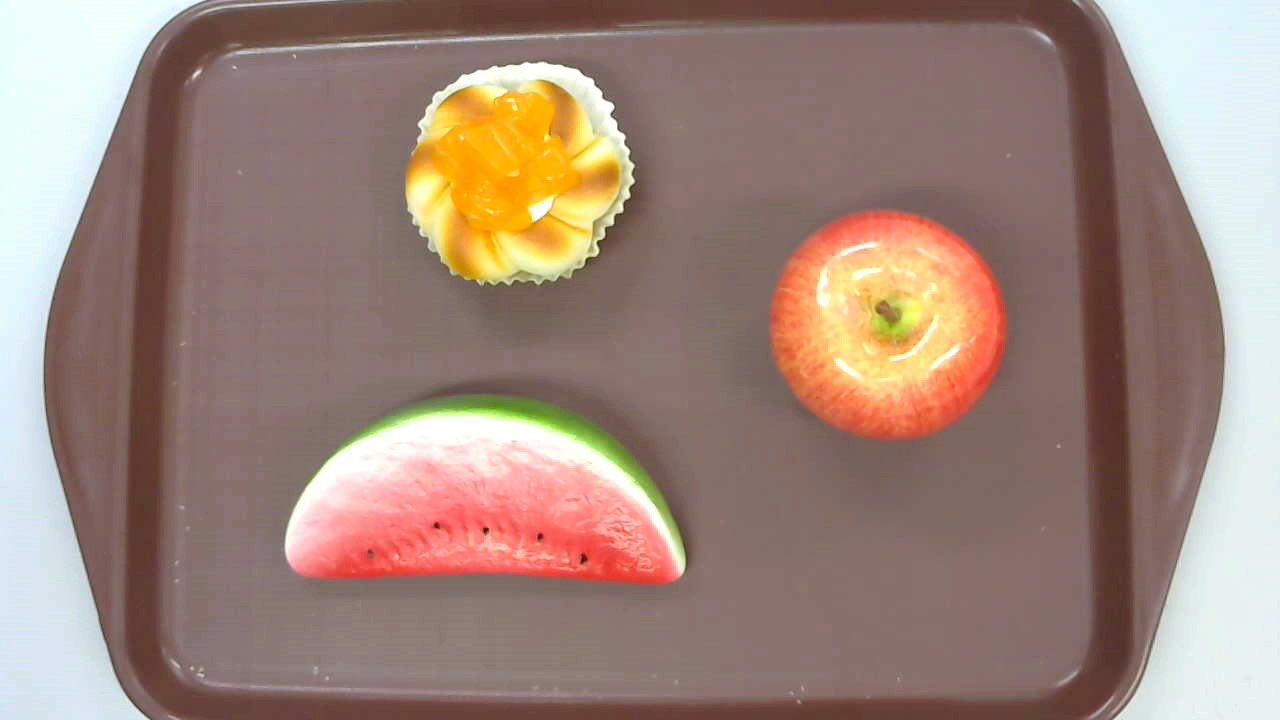mango tart: (404, 61, 635, 288)
red apple: (770, 208, 1009, 441)
water melon: (283, 392, 686, 585)
